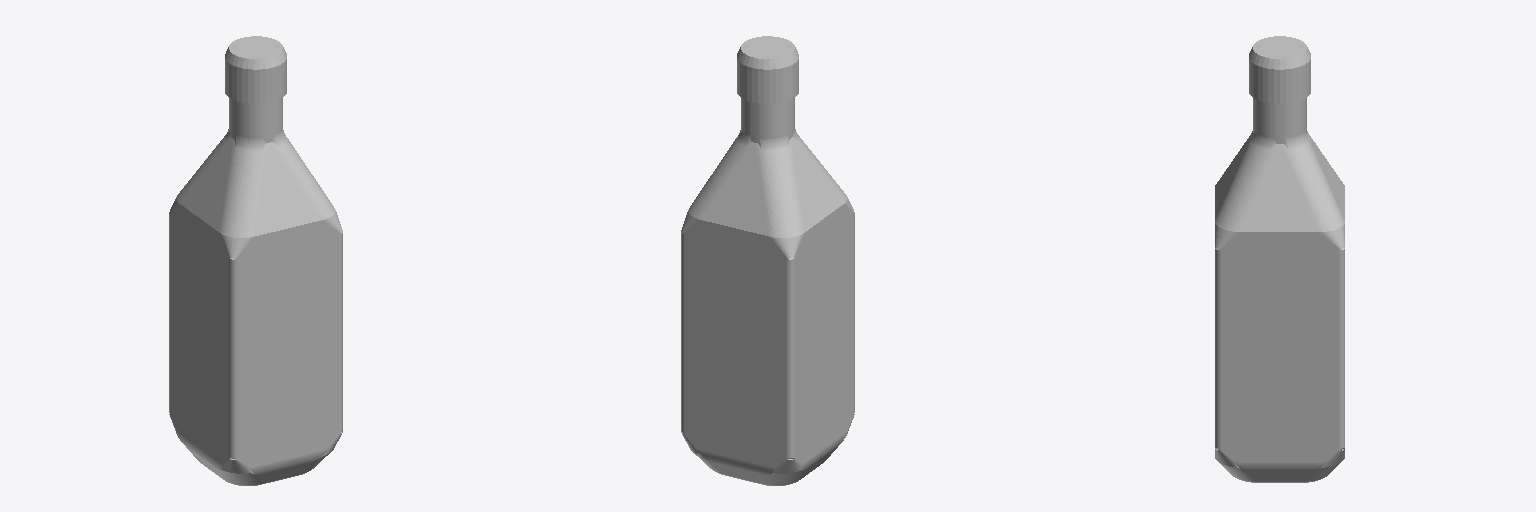
The model's file is Bottle.obj.
3 views of the same model, side by side, from view 1: azimuth 30°, elevation 25°; view 2: azimuth 150°, elevation 25°; view 3: azimuth 270°, elevation 25° (orthographic).
Visible parts, largest first — view 1: Cube, Cylinder; view 2: Cube, Cylinder; view 3: Cube, Cylinder.
Part boxes in pixels (left/top/right/bottom): Cube: left=169, top=98, right=342, bottom=485; Cylinder: left=225, top=36, right=286, bottom=103; Cube: left=681, top=98, right=854, bottom=485; Cylinder: left=737, top=36, right=798, bottom=103; Cube: left=1215, top=98, right=1344, bottom=482; Cylinder: left=1249, top=36, right=1310, bottom=103.
Size of the model in its own units: 2 by 7.06 by 2.